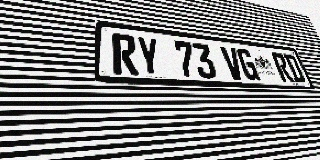3: (191, 43, 217, 79)
7: (173, 40, 199, 78)
D: (283, 54, 307, 83)
G: (235, 48, 261, 81)
R: (112, 33, 139, 75), (270, 52, 295, 82)
V: (220, 46, 245, 80)
Y: (136, 36, 162, 76)
